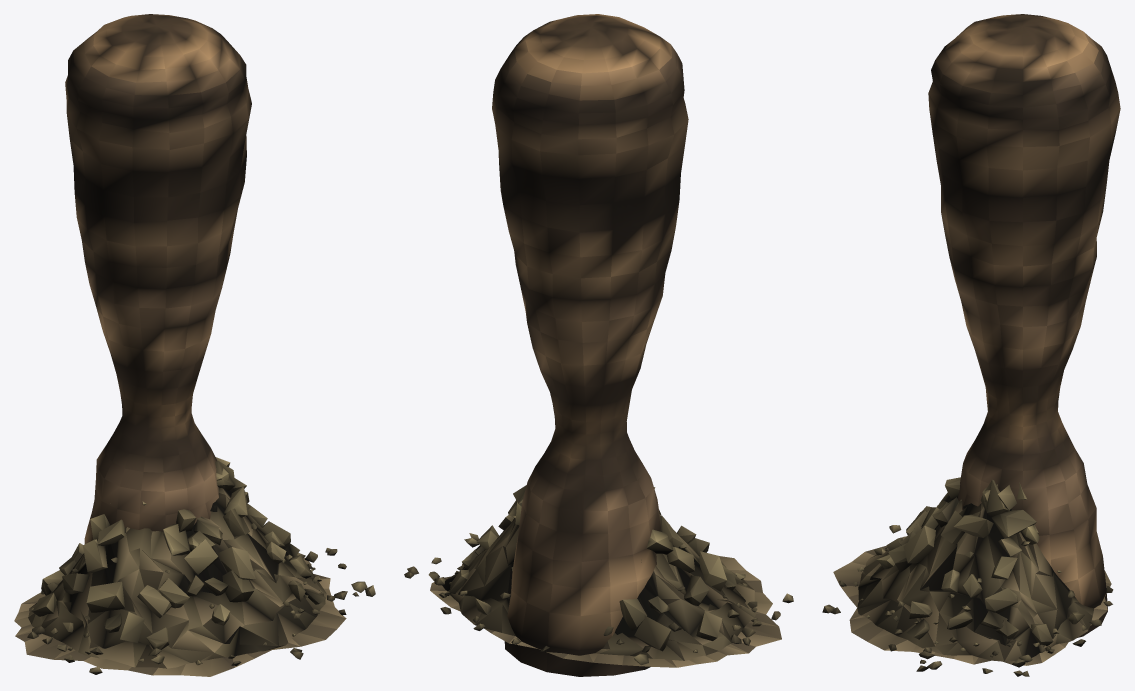
Rendered from TarSpire14.glb.
3 views of the same model, side by side, from view 1: azimuth 30°, elevation 25°; view 2: azimuth 150°, elevation 25°; view 3: azimuth 270°, elevation 25° (orthographic). The views are drawn at different scales.
Visible parts, largest first — view 1: TarSpire14; view 2: TarSpire14; view 3: TarSpire14.
Part boxes in pixels (<box>): TarSpire14: <box>14,14,375,676</box>; TarSpire14: <box>404,14,793,676</box>; TarSpire14: <box>822,14,1120,676</box>.
Size of the model in its own units: 5.07 by 8.5 by 3.93.
